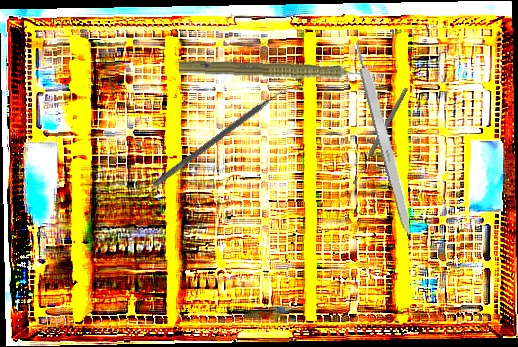Handpiece: (178, 57, 376, 88)
Scalpel Handle: (351, 36, 419, 244)
Spatula Surgical: (152, 82, 293, 194)
Surgical Spoon: (350, 86, 410, 186)
